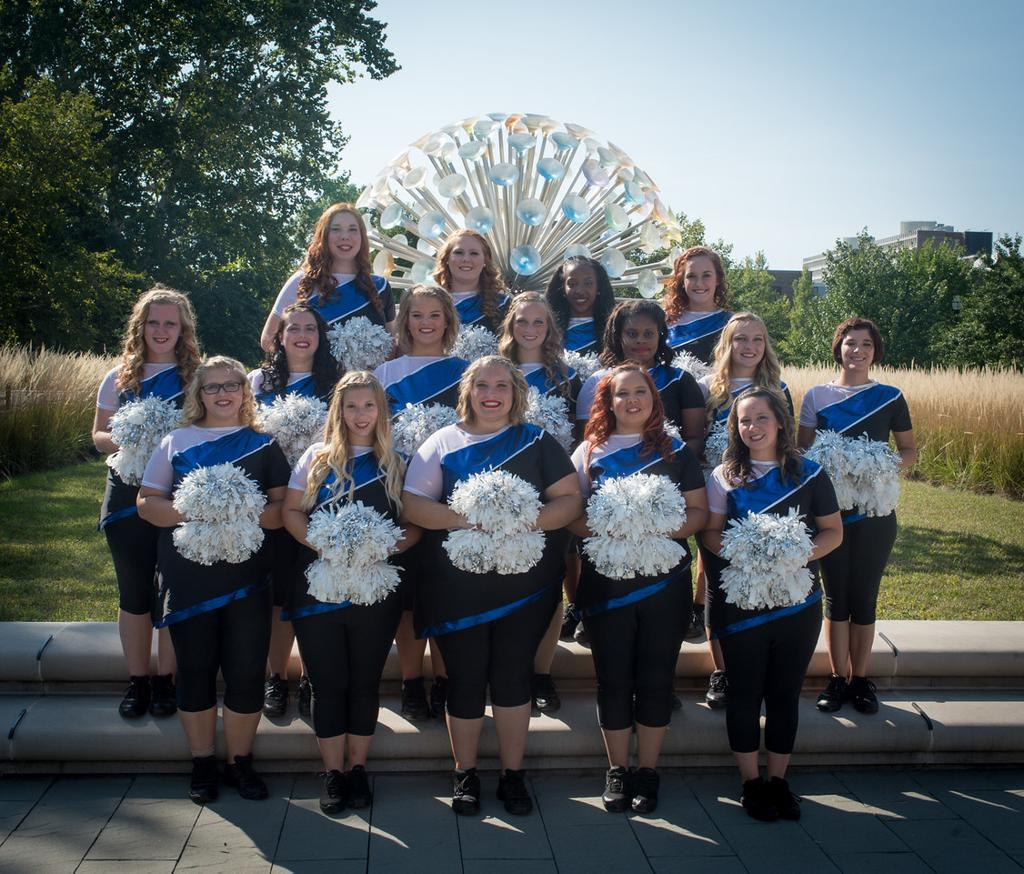face: (472, 370, 515, 419), (613, 375, 654, 426), (738, 399, 778, 450), (202, 369, 243, 417), (144, 303, 181, 355), (621, 315, 660, 363), (343, 388, 379, 437), (513, 302, 549, 349), (564, 265, 598, 313), (409, 298, 444, 344), (448, 238, 485, 281), (284, 312, 319, 357), (328, 213, 362, 259), (840, 328, 876, 371), (731, 323, 765, 367), (685, 258, 717, 303)
